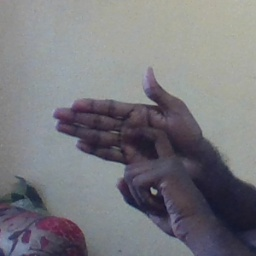R: (52, 64, 208, 193)
